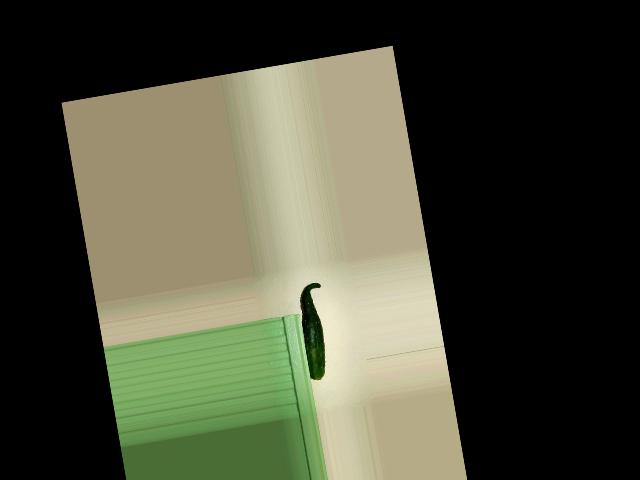cucumber: (294, 281, 335, 381)
